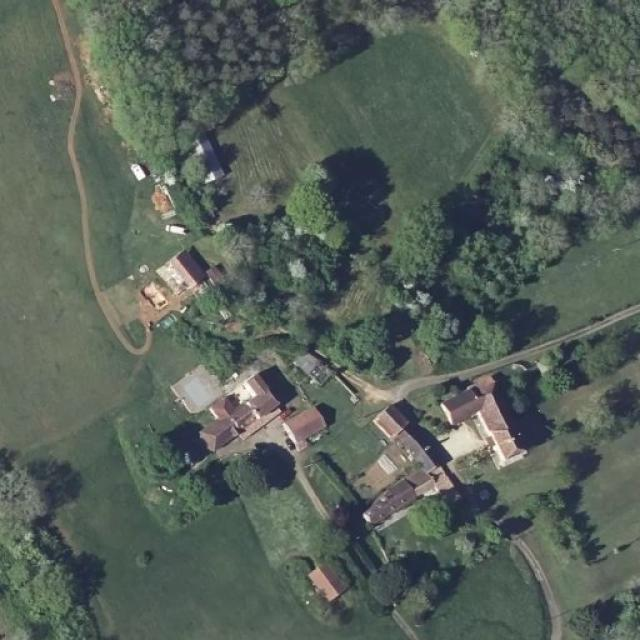maison: (448, 362, 542, 463), (193, 353, 277, 454), (353, 444, 460, 508), (177, 129, 226, 186), (162, 250, 208, 298), (304, 559, 348, 607), (284, 406, 326, 446), (407, 407, 444, 448), (292, 347, 332, 381), (377, 400, 409, 430)
